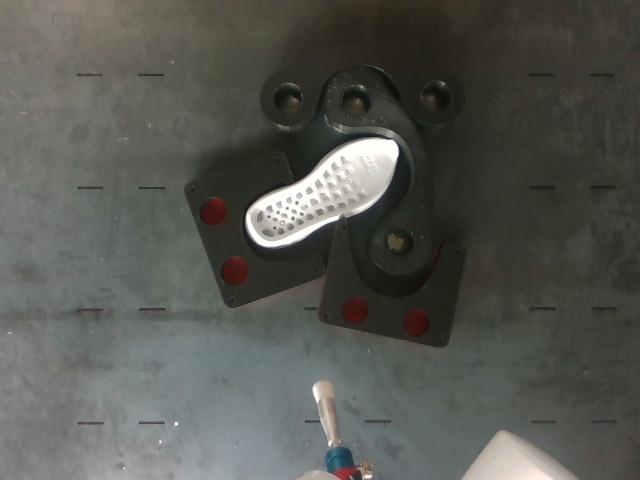shoes: (250, 140, 398, 242)
